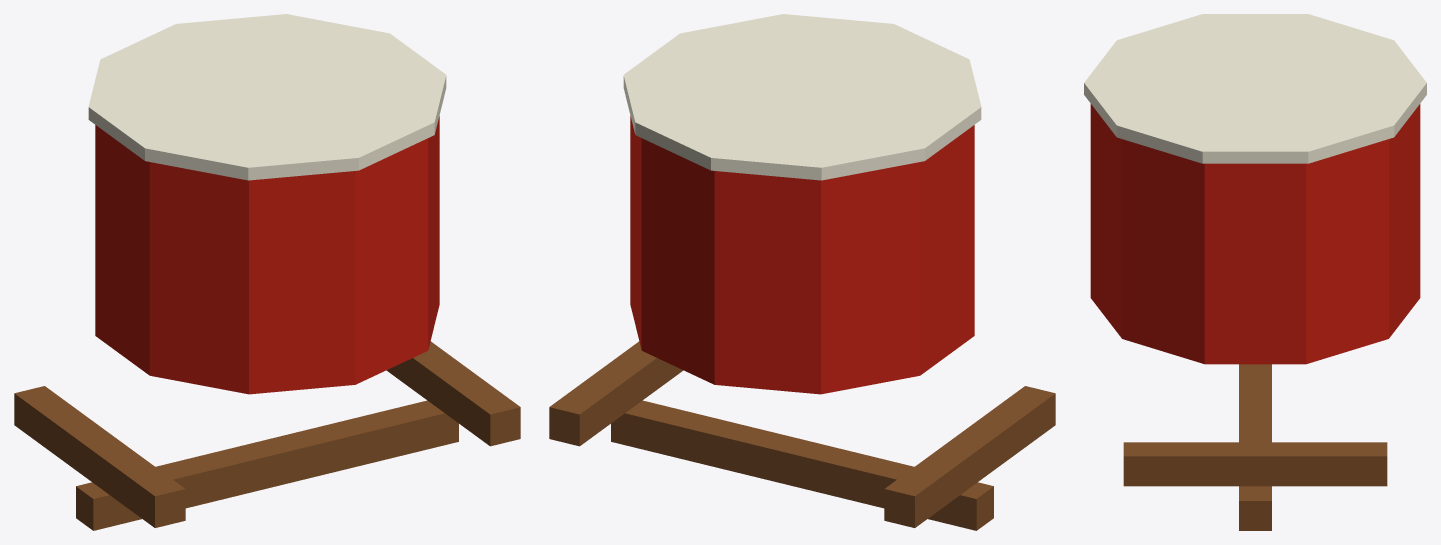
File: taiko_drum.fbx
3 renders of one model, left to right at view 1: azimuth 30°, elevation 25°; view 2: azimuth 150°, elevation 25°; view 3: azimuth 270°, elevation 25°, orthographic. The views are drawn at different scales.
Visible parts, largest first — view 1: taiko_drum; view 2: taiko_drum; view 3: taiko_drum.
Boxes of the visible parts, bbox=[...] form: taiko_drum: bbox=[14, 14, 520, 530]; taiko_drum: bbox=[549, 14, 1055, 530]; taiko_drum: bbox=[1084, 14, 1426, 530].
Bounding box in the file's own units: 1.2 × 1.22 × 1.04.
